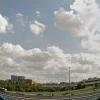Tree: (3, 78, 37, 94)
